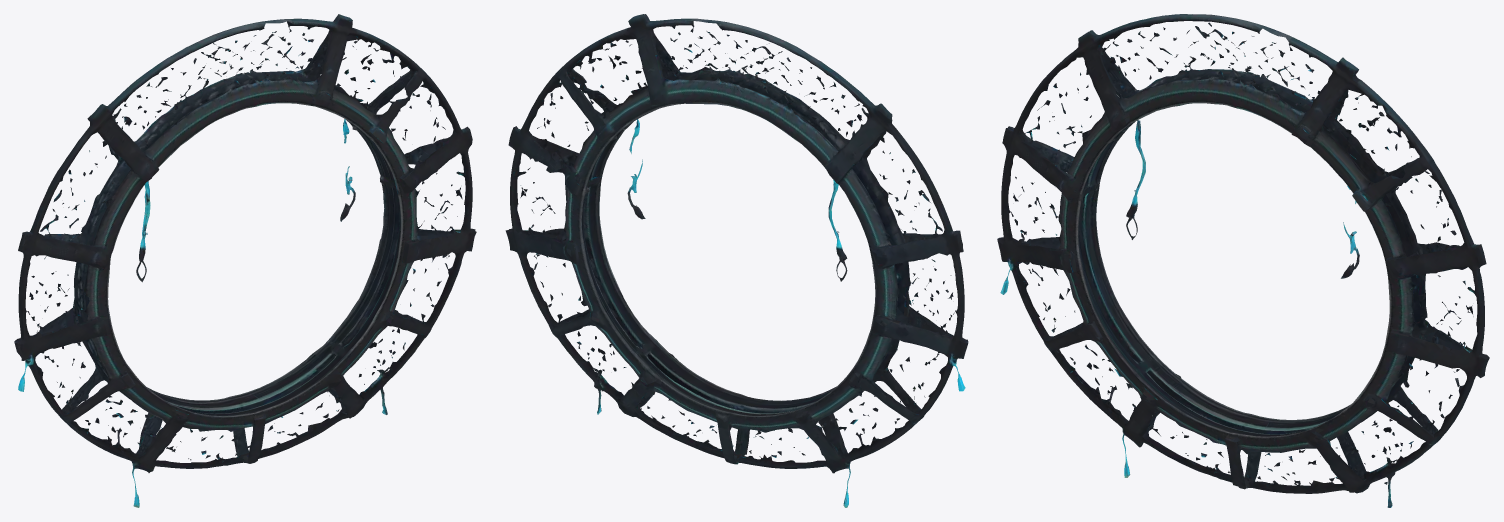
File: fence.glb
3 renders of one model, left to right at view 1: azimuth 30°, elevation 25°; view 2: azimuth 150°, elevation 25°; view 3: azimuth 330°, elevation 25°, orthographic. The views are drawn at different scales.
Parts seen in each view (by area): view 1: Mesh0; view 2: Mesh0; view 3: Mesh0.
Part boxes in pixels (x1,y1,x2,y2): Mesh0: (14,14,476,507); Mesh0: (505,14,968,507); Mesh0: (997,14,1489,507).
Bounding box in the file's own units: 1.91 × 1.8 × 0.2259.
1 material, 1 textured.
